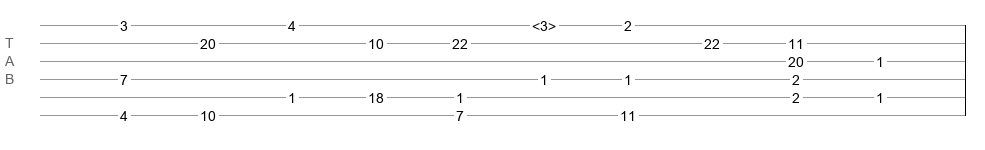1: (288, 90, 296, 100), (456, 90, 464, 100), (540, 72, 548, 82), (624, 72, 632, 82), (876, 54, 884, 64), (876, 90, 884, 100)
10: (200, 108, 216, 118), (368, 36, 384, 46)
11: (620, 108, 636, 118), (788, 36, 804, 46)
18: (368, 90, 384, 100)
2: (624, 18, 632, 28), (792, 72, 800, 82), (792, 90, 800, 100)
20: (200, 36, 216, 46), (788, 54, 804, 64)
22: (452, 36, 468, 46), (704, 36, 720, 46)
3: (120, 18, 128, 28)
4: (120, 108, 128, 118), (288, 18, 296, 28)
7: (120, 72, 128, 82), (456, 108, 464, 118)
harmonic: (532, 18, 556, 28)
